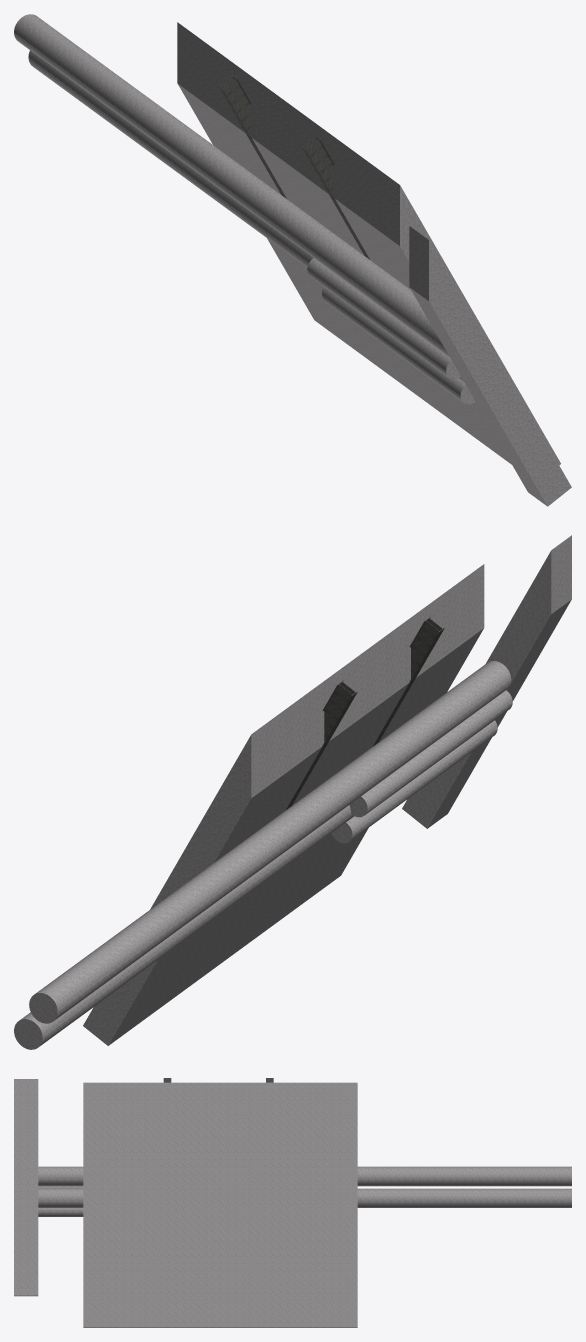
3 renders of one model, top to bottom at view 1: azimuth 30°, elevation 25°; view 2: azimuth 150°, elevation 25°; view 3: azimuth 270°, elevation 25°, orthographic. The views are drawn at different scales.
Parts seen in each view (by area): view 1: 0_0_2_1_2_3_1; view 2: 0_0_2_1_2_3_1; view 3: 0_0_2_1_2_3_1.
Part boxes in pixels (x1,y1,x2,y2): 0_0_2_1_2_3_1: [14, 14, 571, 506]; 0_0_2_1_2_3_1: [14, 535, 571, 1049]; 0_0_2_1_2_3_1: [14, 1078, 571, 1327].
Bounding box in the file's own units: 5.5 × 9.26 × 22.9.
11 materials, 11 textured.
